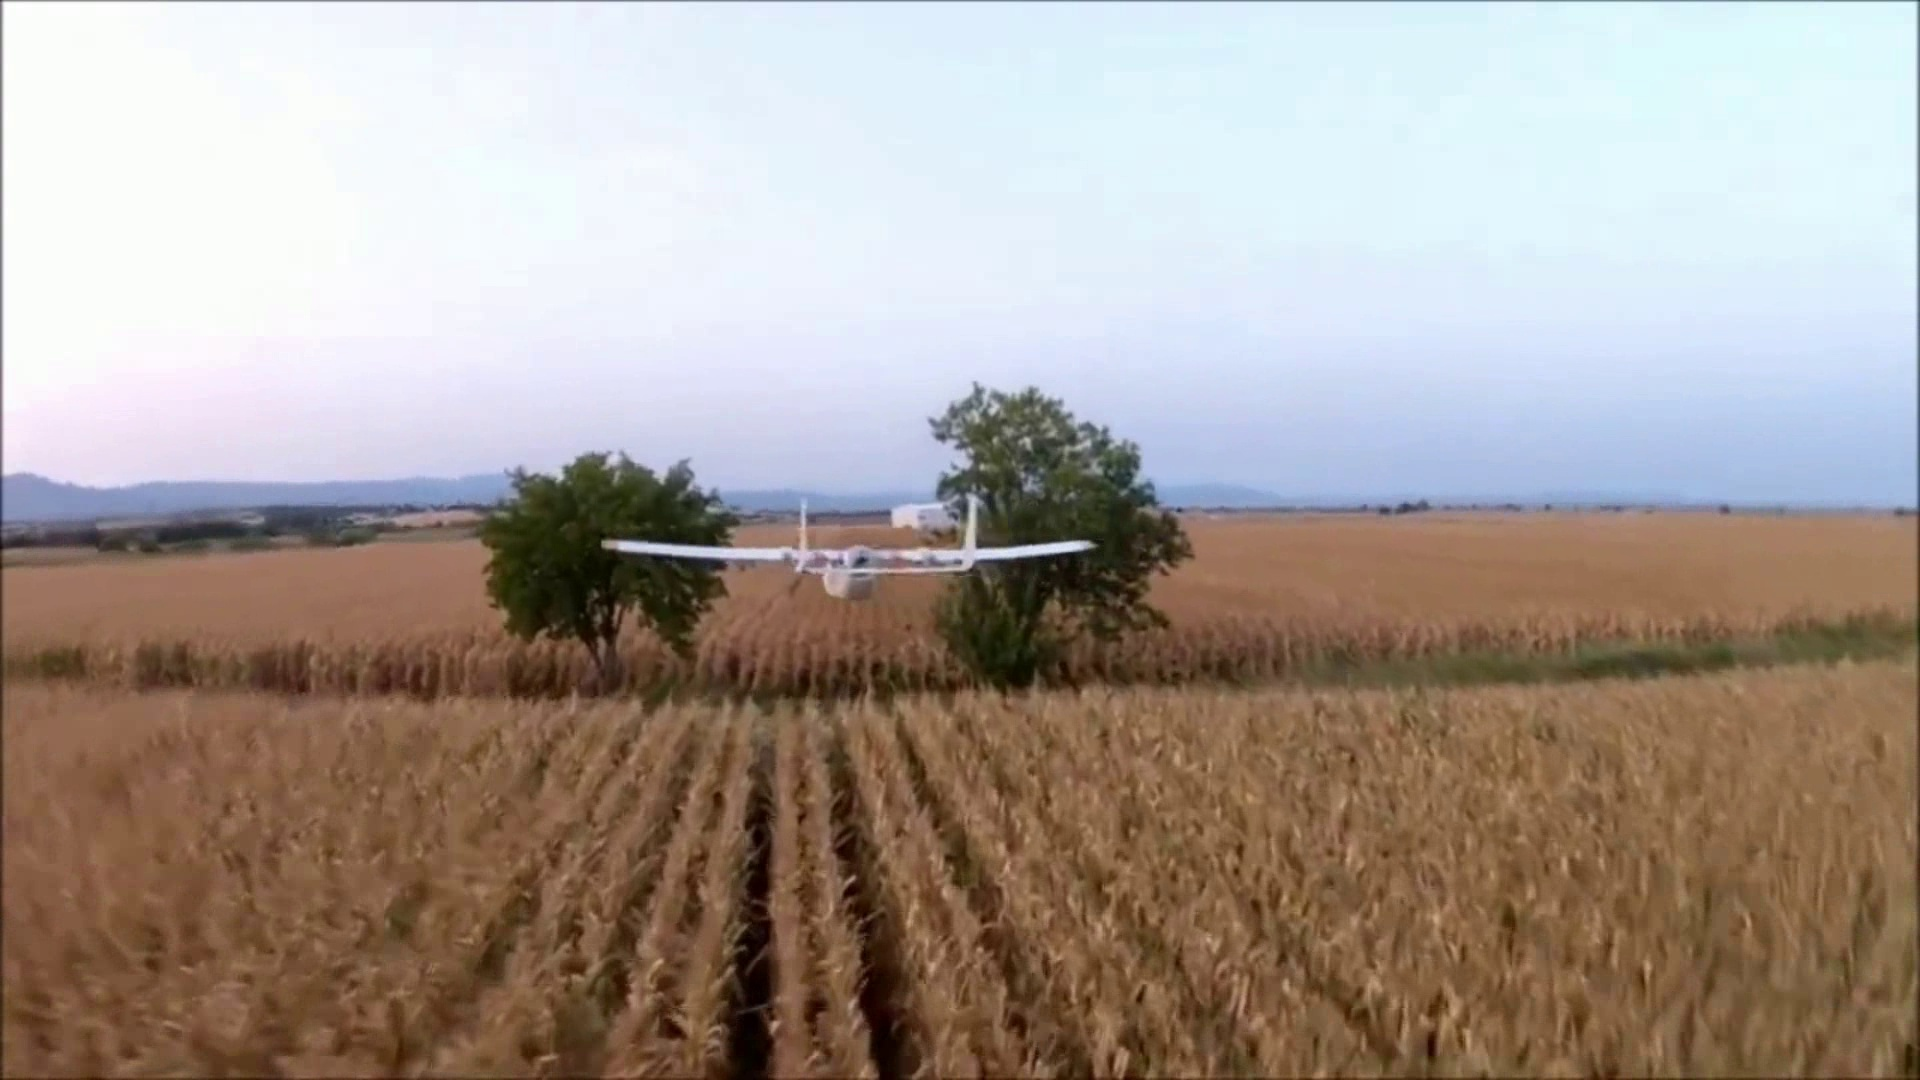airplane: (603, 525, 1095, 597)
